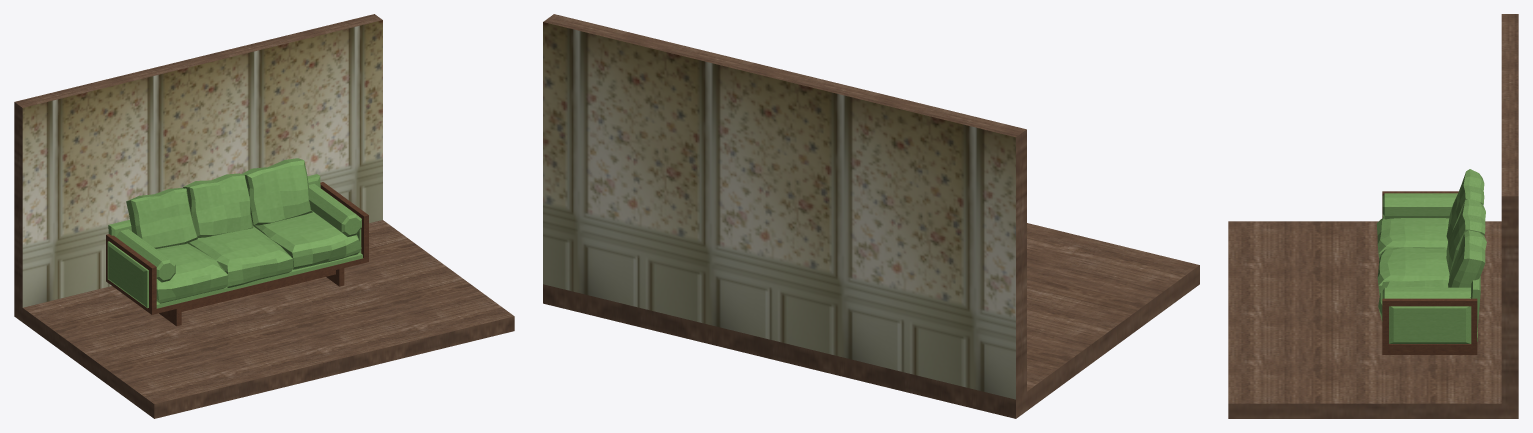
Rendered from sofa.glb.
3 views of the same model, side by side, from view 1: azimuth 30°, elevation 25°; view 2: azimuth 150°, elevation 25°; view 3: azimuth 270°, elevation 25° (orthographic). The views are drawn at different scales.
Parts seen in each view (by area): view 1: Wall, Sofa, Seat Pillow_002, Top Pillow_002, Seat Pillow_001, Top Pillow_003, Top Pillow_001, Seat Pillow_003, Side Pillow Base, Side Pillow, Side Pillow.001, Sofa Base.001; view 2: Wall; view 3: Wall, Side Pillow Base, Sofa, Seat Pillow_002, Seat Pillow_003, Side Pillow.001, Top Pillow_002, Top Pillow_003, Side Pillow, Top Pillow_001, Seat Pillow_001.
Boxes of the visible parts, x1,y1,x2,y2 form: Wall: [14, 14, 514, 418]; Sofa: [106, 182, 368, 326]; Seat Pillow_002: [187, 226, 293, 287]; Top Pillow_002: [242, 158, 312, 225]; Seat Pillow_001: [253, 212, 361, 269]; Top Pillow_003: [183, 173, 253, 237]; Top Pillow_001: [126, 188, 197, 248]; Seat Pillow_003: [156, 243, 228, 303]; Side Pillow Base: [107, 229, 361, 308]; Side Pillow: [309, 183, 361, 236]; Side Pillow.001: [116, 229, 175, 282]; Sofa Base.001: [156, 252, 362, 308]; Wall: [543, 14, 1199, 418]; Wall: [1228, 14, 1518, 418]; Side Pillow Base: [1389, 306, 1471, 343]; Sofa: [1382, 191, 1477, 354]; Seat Pillow_002: [1377, 247, 1449, 295]; Seat Pillow_003: [1376, 217, 1449, 259]; Side Pillow.001: [1382, 193, 1457, 219]; Top Pillow_002: [1448, 230, 1486, 287]; Top Pillow_003: [1446, 198, 1485, 273]; Side Pillow: [1382, 287, 1470, 298]; Top Pillow_001: [1446, 169, 1484, 241]; Seat Pillow_001: [1378, 279, 1448, 321].
Bounding box in the file's own units: 4.03 × 2.3 × 2.72.
Materials: 5 (5 with a texture image).
